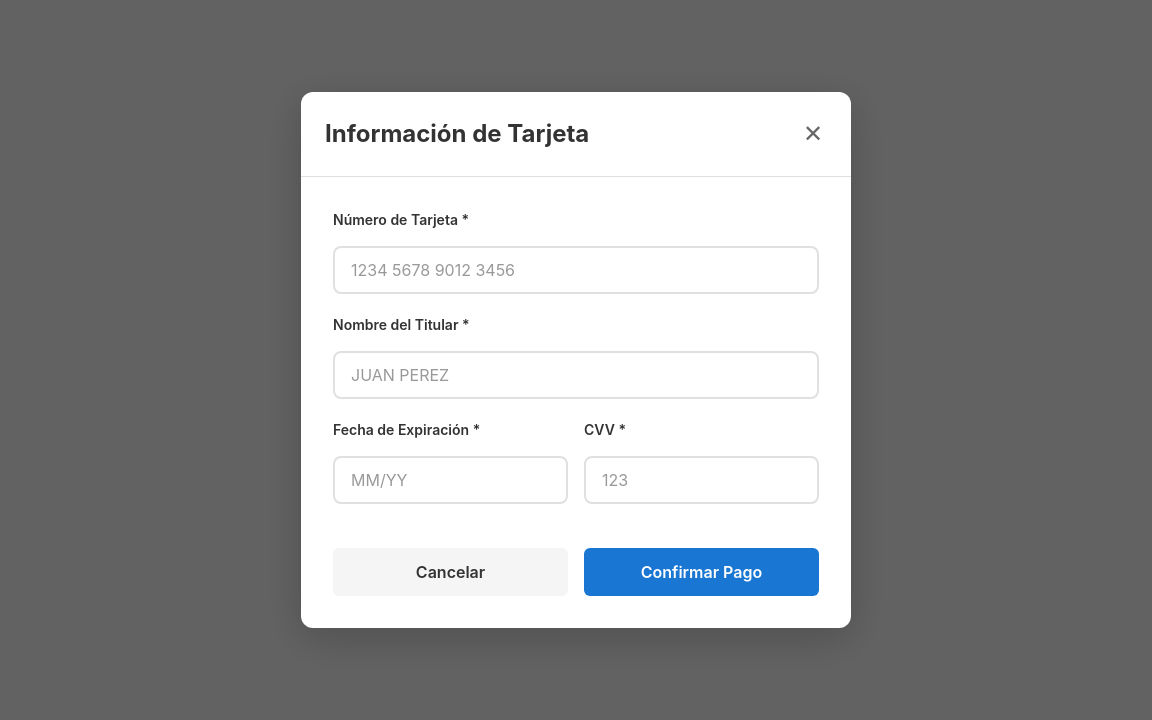
it: CreditCardModal Component › Validación de fecha de expiración › debe validar que la fecha no esté expirada
Fecha en el pasado
Type "01/20" into the field labelled "Fecha de Expiración *" at (450, 480), box [333,456,568,504]
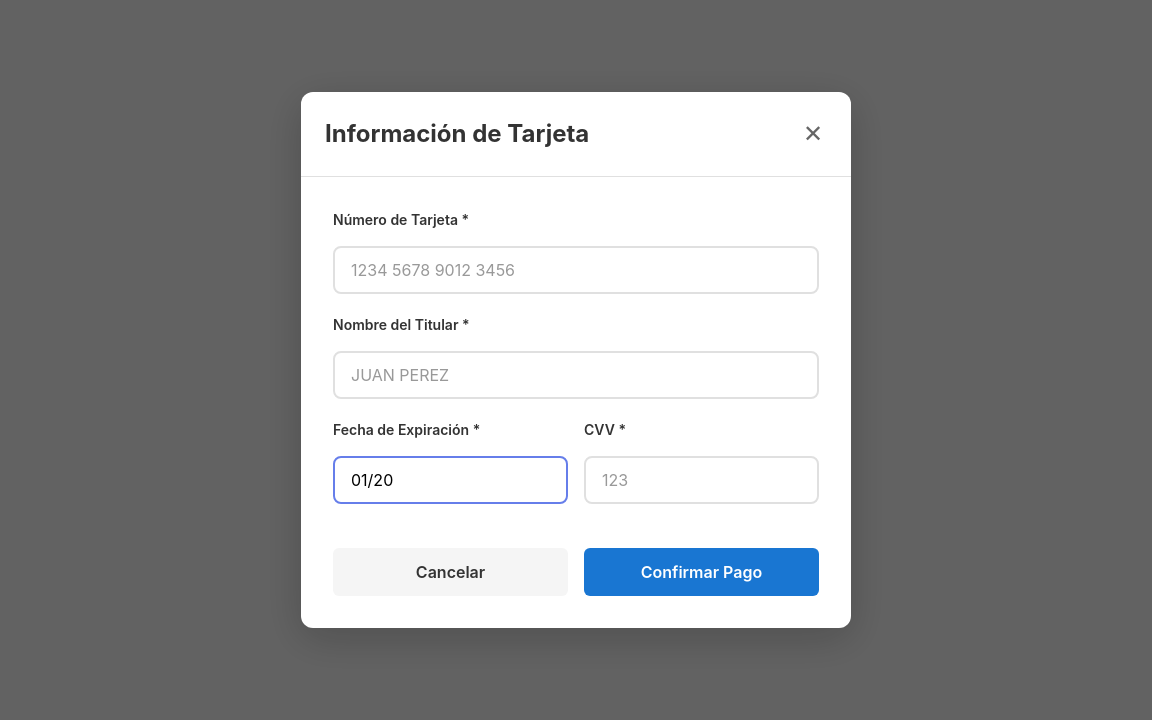
Click the button "Confirmar Pago" at (702, 572), box [584,548,819,596]
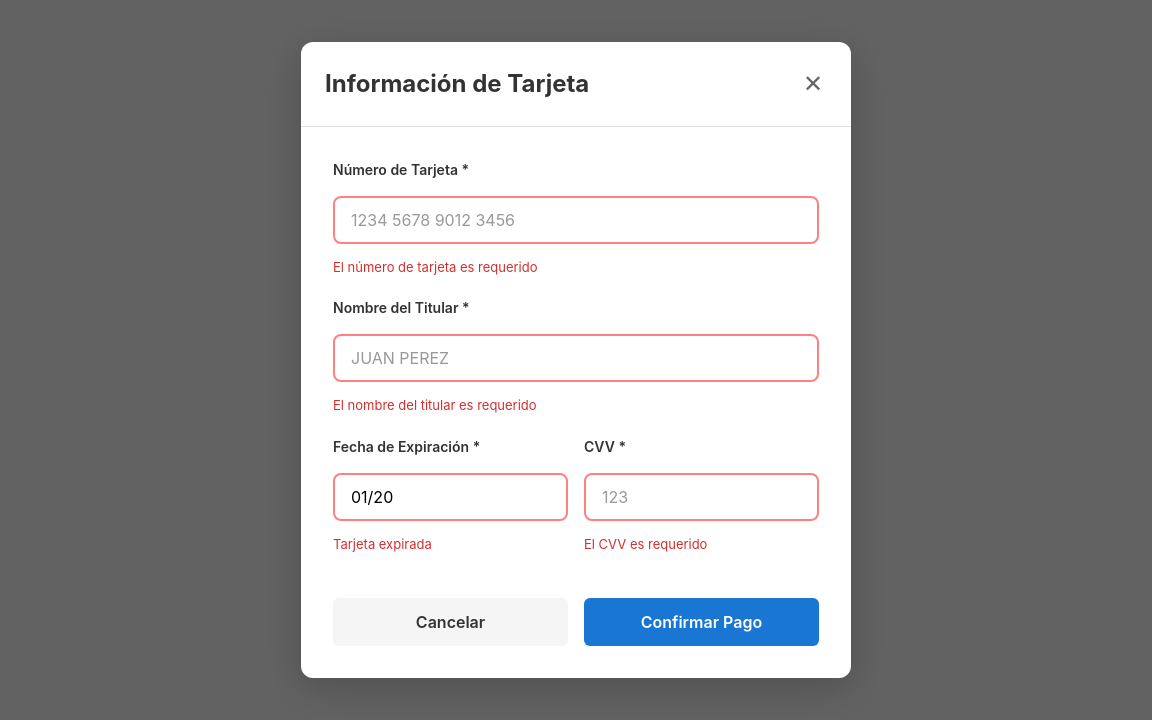
Now the text "Tarjeta expirada" is shown, box [333,536,432,552]
